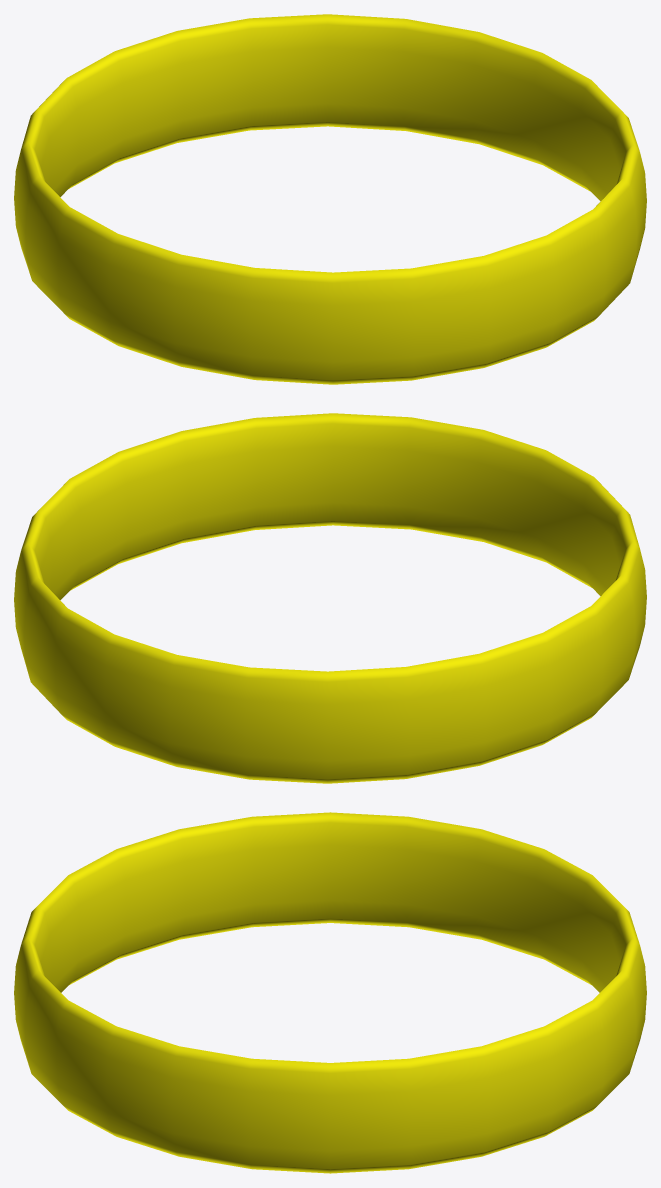
The model's file is Goldring.FBX.
3 renders of one model, top to bottom at view 1: azimuth 30°, elevation 25°; view 2: azimuth 150°, elevation 25°; view 3: azimuth 270°, elevation 25°, orthographic.
Visible parts, largest first — view 1: Torus031; view 2: Torus031; view 3: Torus031.
Boxes of the visible parts, x1=… form: Torus031: x1=14, y1=14, x2=646, y2=384; Torus031: x1=14, y1=413, x2=646, y2=783; Torus031: x1=14, y1=812, x2=646, y2=1173.
Size of the model in its own units: 5.29 by 5.4 by 1.04.
1 material, 1 textured.
